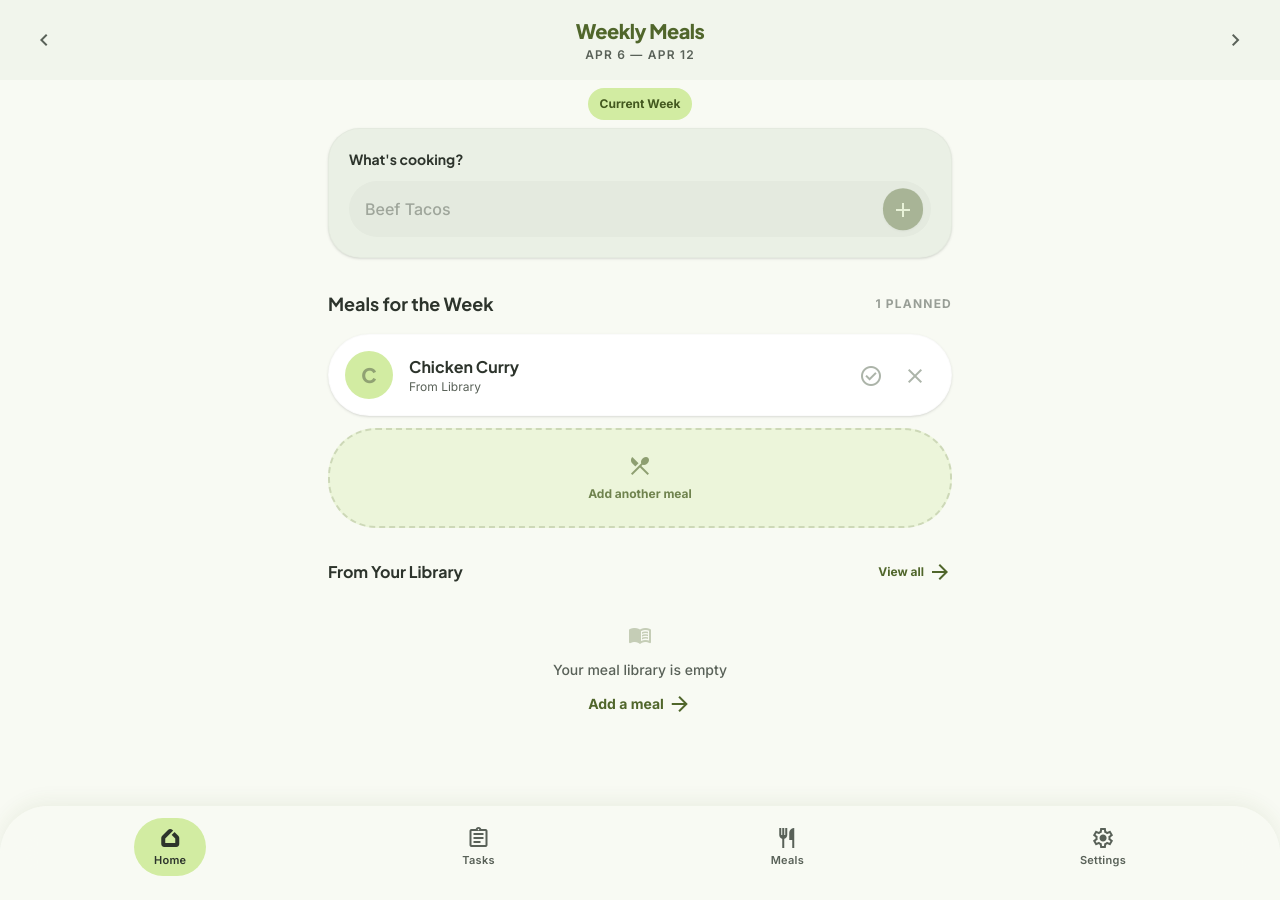
Test case: MealPlanner › shows "Week Already Started" confirmation modal when close button is clicked on a library meal in the current week
Check: the text "Chicken Curry" is shown, box [409,355,519,379]
Click the button without text in the row of "Chicken Curry" at (915, 375), box [895,354,935,396]
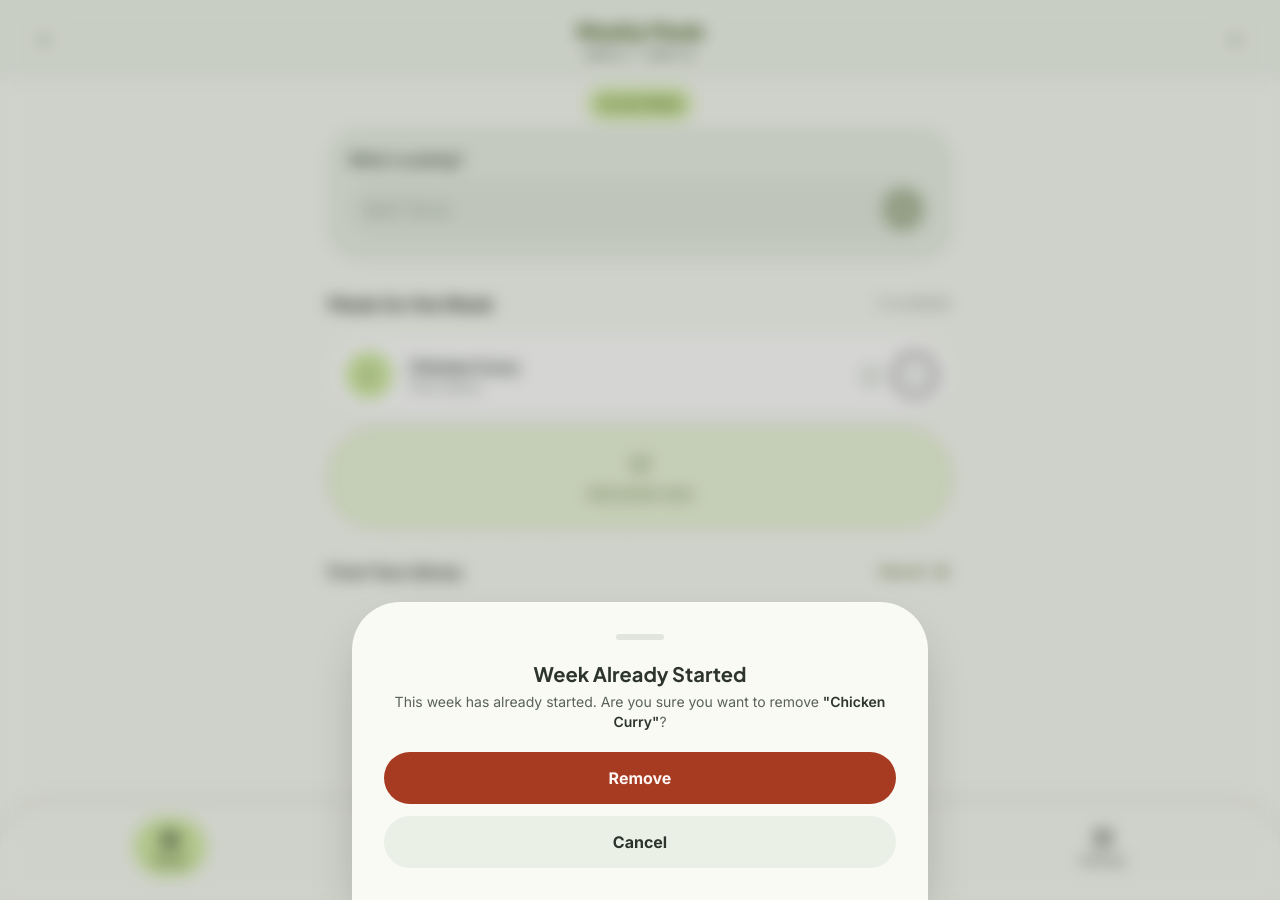
Check: the heading "Week Already Started" is shown, box [534,661,746,686]
